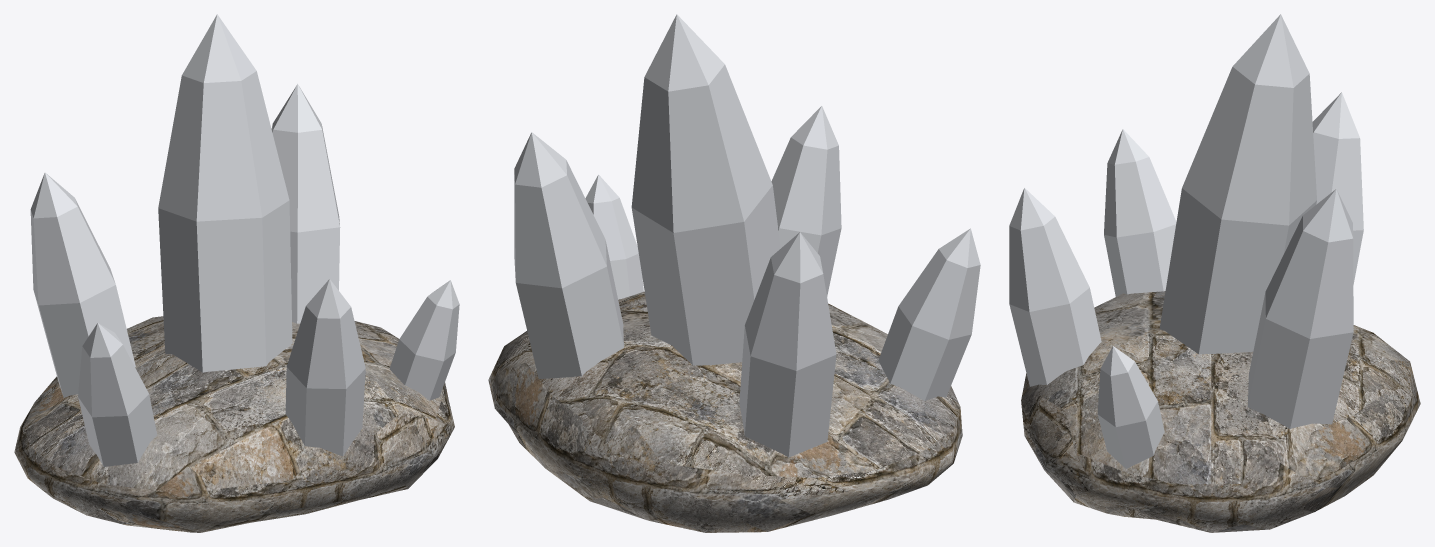
The model's file is mineral-crystals-v01.glb.
3 renders of one model, left to right at view 1: azimuth 30°, elevation 25°; view 2: azimuth 150°, elevation 25°; view 3: azimuth 270°, elevation 25°, orthographic. The views are drawn at different scales.
Visible parts, largest first — view 1: mineral-crystals; view 2: mineral-crystals; view 3: mineral-crystals.
Part boxes in pixels (x1,y1,x2,y2): mineral-crystals: [14, 14, 459, 532]; mineral-crystals: [488, 14, 980, 532]; mineral-crystals: [1009, 14, 1420, 532].
Size of the model in its own units: 1.49 by 1.56 by 1.26.
Materials: 2 (1 with a texture image).
